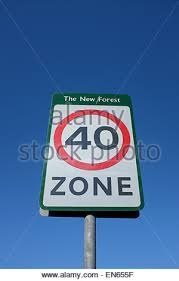Speed_limit_40km: (55, 110, 130, 169)
